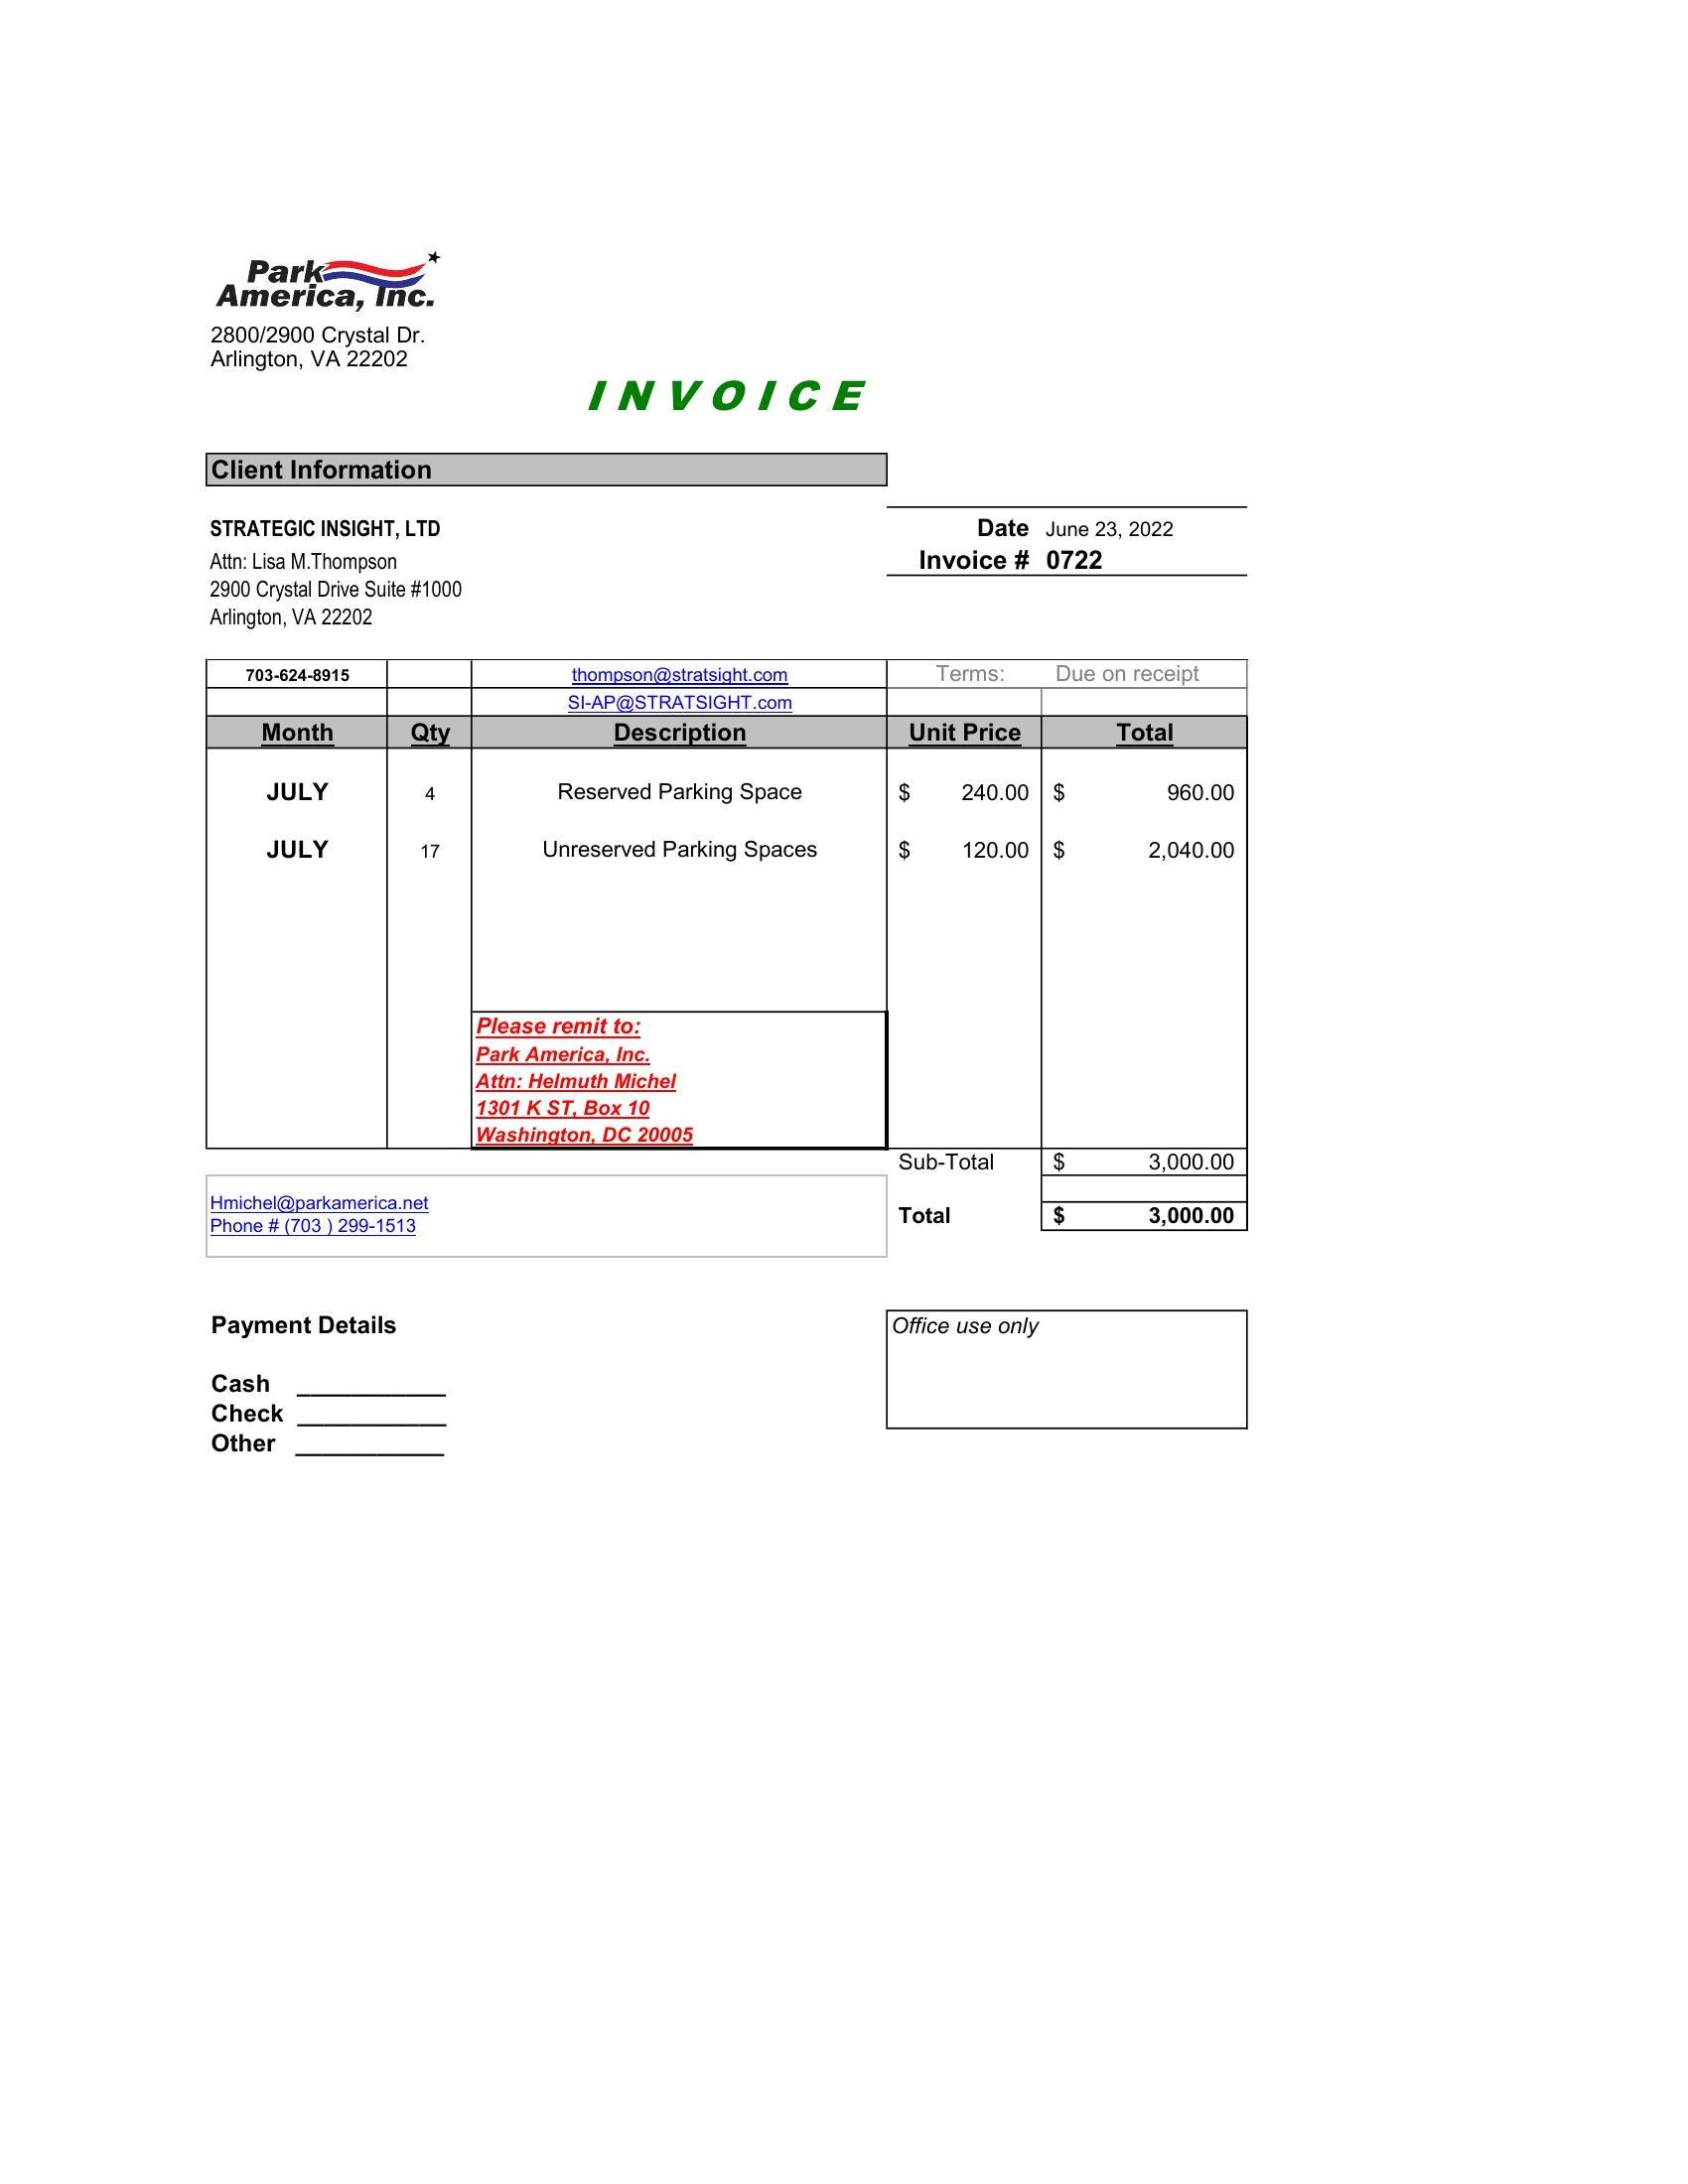table: (195, 700, 1280, 1003)
